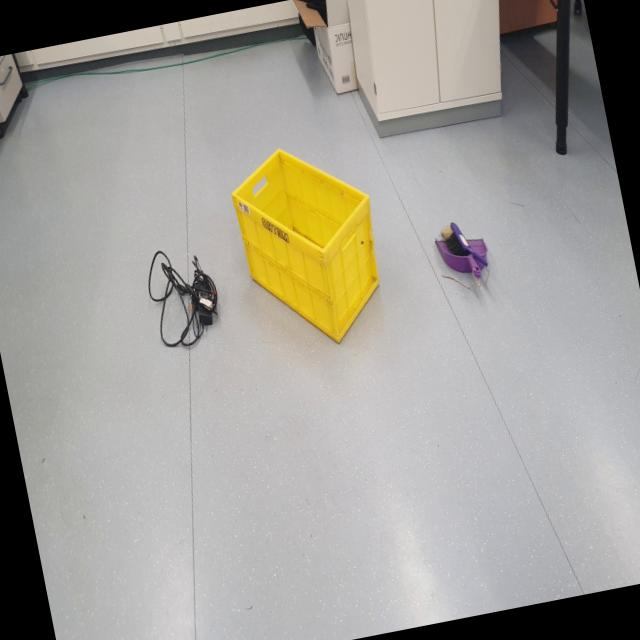box: (216, 117, 399, 372)
